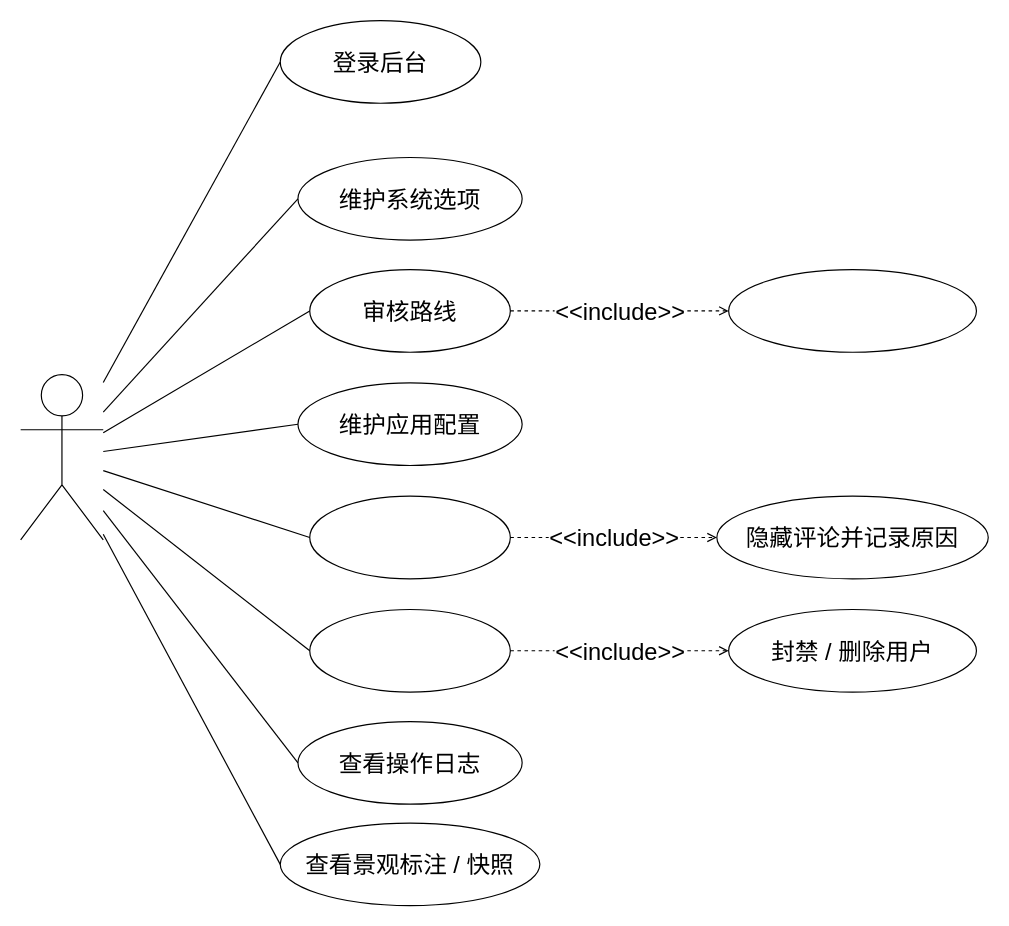
Some shapes in this 1009 by 926 pixel diagram are drawn without their labels. The centre of each missing label's shape, as x and y in pixels:
管理员: (x=61, y=456)
管理用户: (x=409, y=650)
管理评论: (x=409, y=537)
驳回路线并备注: (x=851, y=310)
